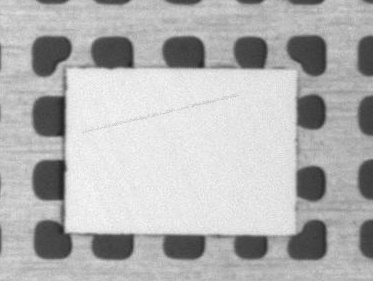DIE_CRACK: (109, 72, 316, 99)
